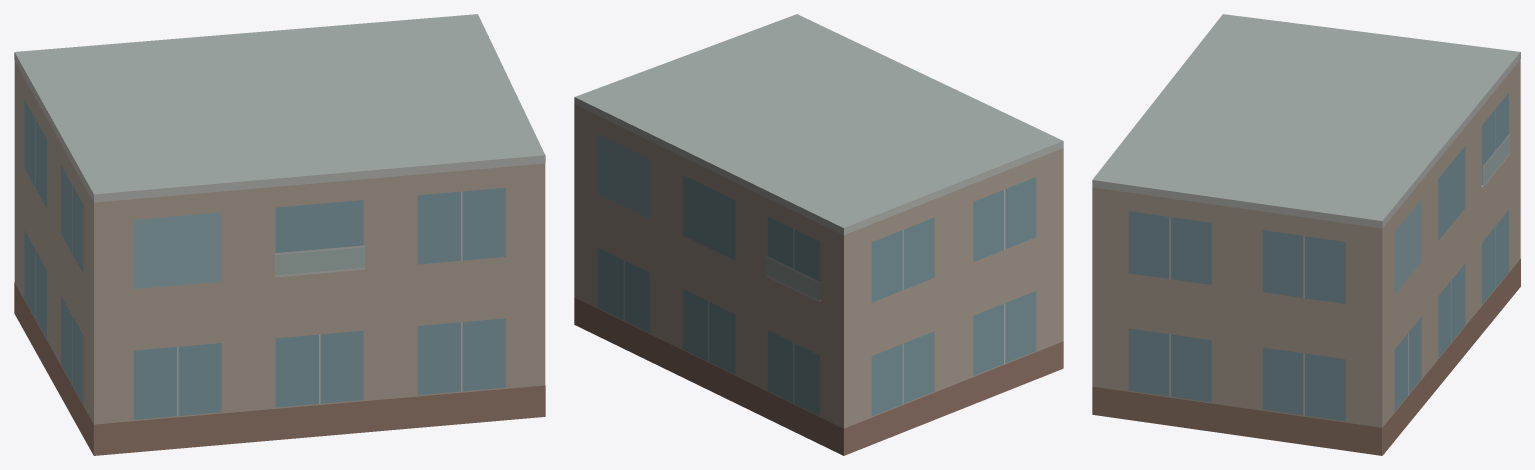
The model's file is survey-upis-32992553.glb.
3 renders of one model, left to right at view 1: azimuth 30°, elevation 25°; view 2: azimuth 150°, elevation 25°; view 3: azimuth 270°, elevation 25°, orthographic. The views are drawn at different scales.
Visible parts, largest first — view 1: survey-upis-32992553.tmp; view 2: survey-upis-32992553.tmp; view 3: survey-upis-32992553.tmp.
Boxes of the visible parts, x1,y1,x2,y2 form: survey-upis-32992553.tmp: (14, 14, 545, 455); survey-upis-32992553.tmp: (574, 14, 1063, 455); survey-upis-32992553.tmp: (1092, 14, 1520, 455).
Size of the model in its own units: 14.77 by 7.8 by 12.92.
